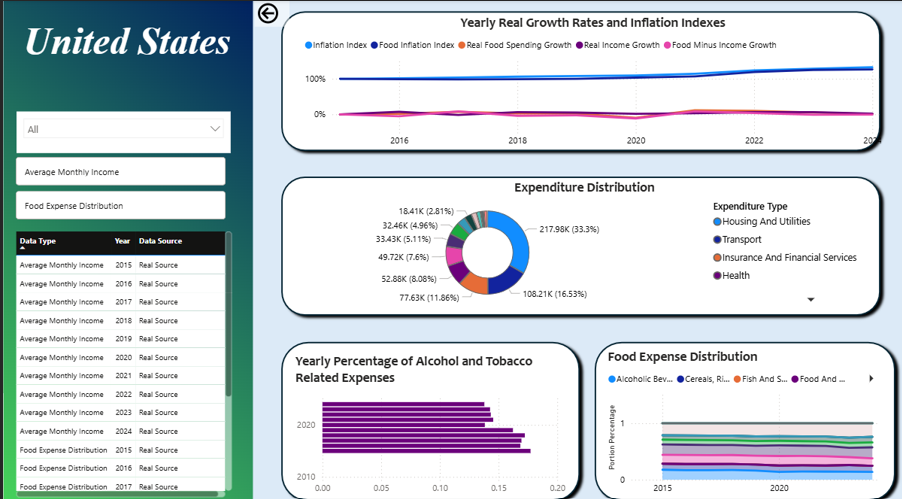

The page's visual inventory and layout, read from the dashboard file:
{"tool":"powerbi","page":{"name":"Drill","canvas":[1280,720],"ordinal":1},"visuals":[{"type":"tableEx","fields":{"Values":["Data Aquisition Method.Data Type","Data Aquisition Method.Year","Data Aquisition Method.Data Acquisition Method"]},"box":[12.7,321.3,314.9,384.9],"z":0},{"type":"stackedAreaChart","title":"Food Expense Distribution","fields":{"Y":["Sum(FED Pivot.Alcoholic Beverages And Tobacco )","Sum(FED Pivot.Cereals, Rice And Bakery Products)","Sum(FED Pivot.Fish And Seafood)","Sum(FED Pivot.Food And Non-Alcoholic Beverages N.E.C)","Sum(FED Pivot.Fruits, Vegetables And Nuts)","Sum(FED Pivot.Meats, Poultry, Fish, And Eggs)","Sum(FED Pivot.Milk, Other Dairy Products And Eggs)","Sum(FED Pivot.Non-Alcoholic Beverages)","Sum(FED Pivot.Oils And Fats)","Sum(FED Pivot.Other Food At Home)","Sum(FED Pivot.Ready-Made Food And Other Food Products N.E.C.)","Sum(FED Pivot.Sugar, Confectionery And Desserts)"],"Category":["FED Pivot.Year"]},"box":[847.8,491.5,396.1,214.7],"z":1000},{"type":"clusteredBarChart","title":"Yearly Percentage of Alcohol and Tobacco Related Expenses","fields":{"Y":["Sum(FED Pivot.Alcoholic Beverages And Tobacco )"],"Category":["FED Pivot.Year"]},"box":[407.2,497.9,391.3,208.4],"z":2000},{"type":"donutChart","title":"Expenditure Distribution","fields":{"Category":["Average Monthly Expenditure.Type of expenditure"],"Y":["Sum(Average Monthly Expenditure.Expense Amount)"]},"box":[359.5,252.9,921,182.9],"z":3000},{"type":"lineChart","title":"Yearly Real Growth Rates and Inflation Indexes","fields":{"Category":["Growth Percentage.Year"],"Y":["Sum(Growth Percentage.Inflation )","Sum(Growth Percentage.Food Inflation)","Sum(Growth Percentage.Real Food Spending Growth)","Sum(Growth Percentage.Real Income Growth)","Sum(Growth Percentage.Food Minus Income Growth)"]},"box":[419.9,20.7,823.9,195.6],"z":4000},{"type":"cardVisual","fields":{"Data":["Min(Country Dim.Country)"]},"box":[0,0,354.7,116.1],"z":5000},{"type":"actionButton","box":[354.7,0,49.3,38.2],"z":6000},{"type":"advancedSlicerVisual","fields":{"Values":["Data Aquisition Method.Data Type"]},"box":[12.7,216.3,307,98.6],"z":7000},{"type":"slicer","fields":{"Values":["Year Dim.Year"]},"box":[19.1,157.5,302.2,58.9],"z":8000}]}

Visuals, with their boxes in screenshot pixels (x1, y1, x2, y2), scaled from the page's 1280x720 canvas onto the 902x499 screenshot:
tableEx - Data Aquisition Method.Data Type x Data Aquisition Method.Year: rect(9, 223, 231, 489)
"Food Expense Distribution" stackedAreaChart: rect(597, 341, 877, 489)
"Yearly Percentage of Alcohol and Tobacco Related Expenses" clusteredBarChart: rect(287, 345, 563, 490)
"Expenditure Distribution" donutChart: rect(253, 175, 901, 302)
"Yearly Real Growth Rates and Inflation Indexes" lineChart: rect(296, 14, 876, 150)
cardVisual - Min(Country Dim.Country): rect(0, 0, 250, 80)
actionButton: rect(250, 0, 285, 26)
advancedSlicerVisual - Data Aquisition Method.Data Type: rect(9, 150, 225, 218)
slicer - Year Dim.Year: rect(13, 109, 226, 150)
